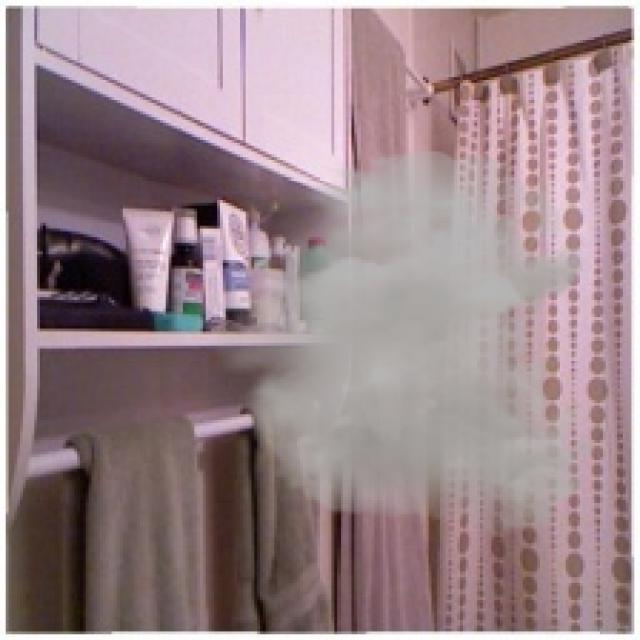smoke: (194, 152, 597, 534)
